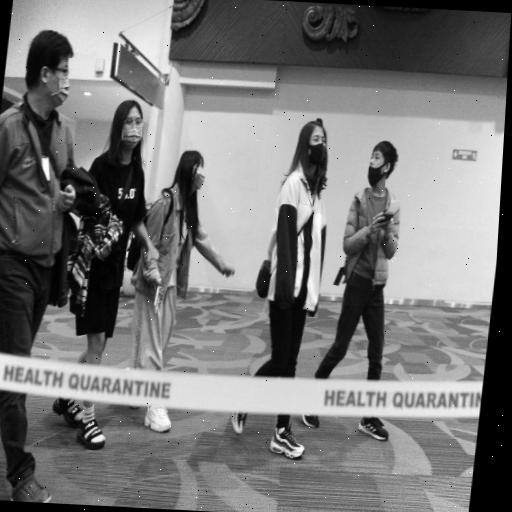mask: (16, 25, 85, 120), (284, 111, 339, 189), (356, 133, 407, 193), (105, 98, 155, 158), (169, 142, 215, 200)
